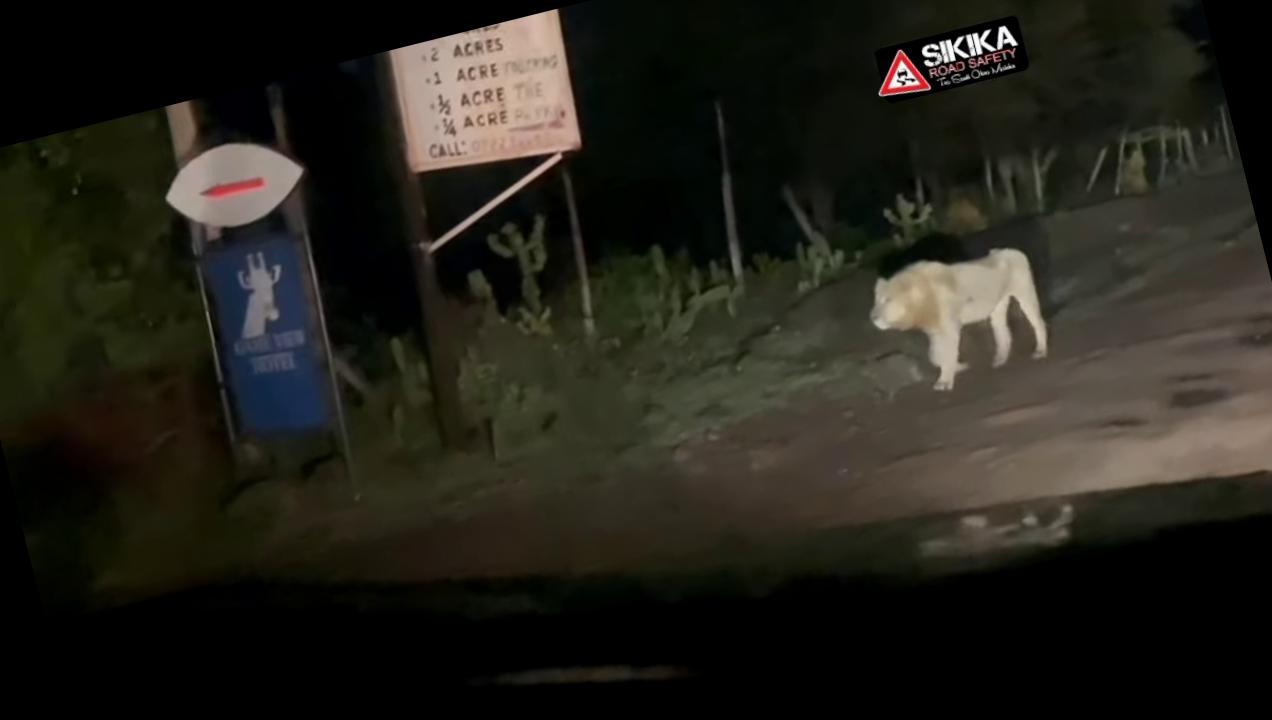lions: (842, 214, 1102, 432)
